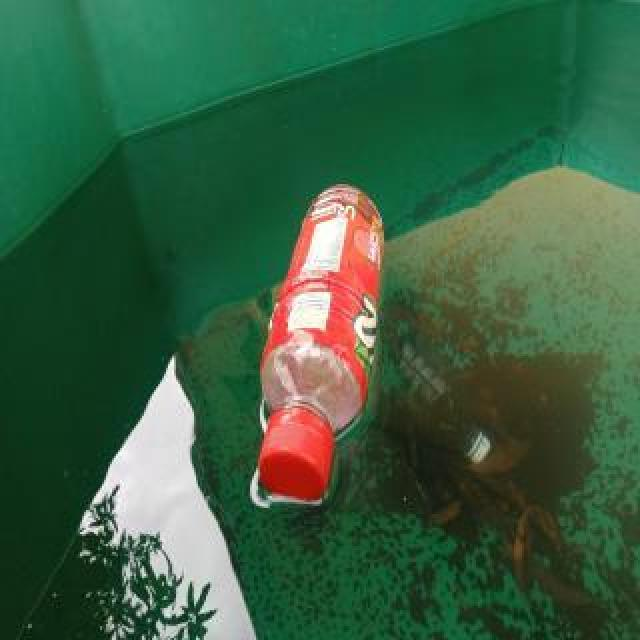bottle: (258, 177, 386, 505)
